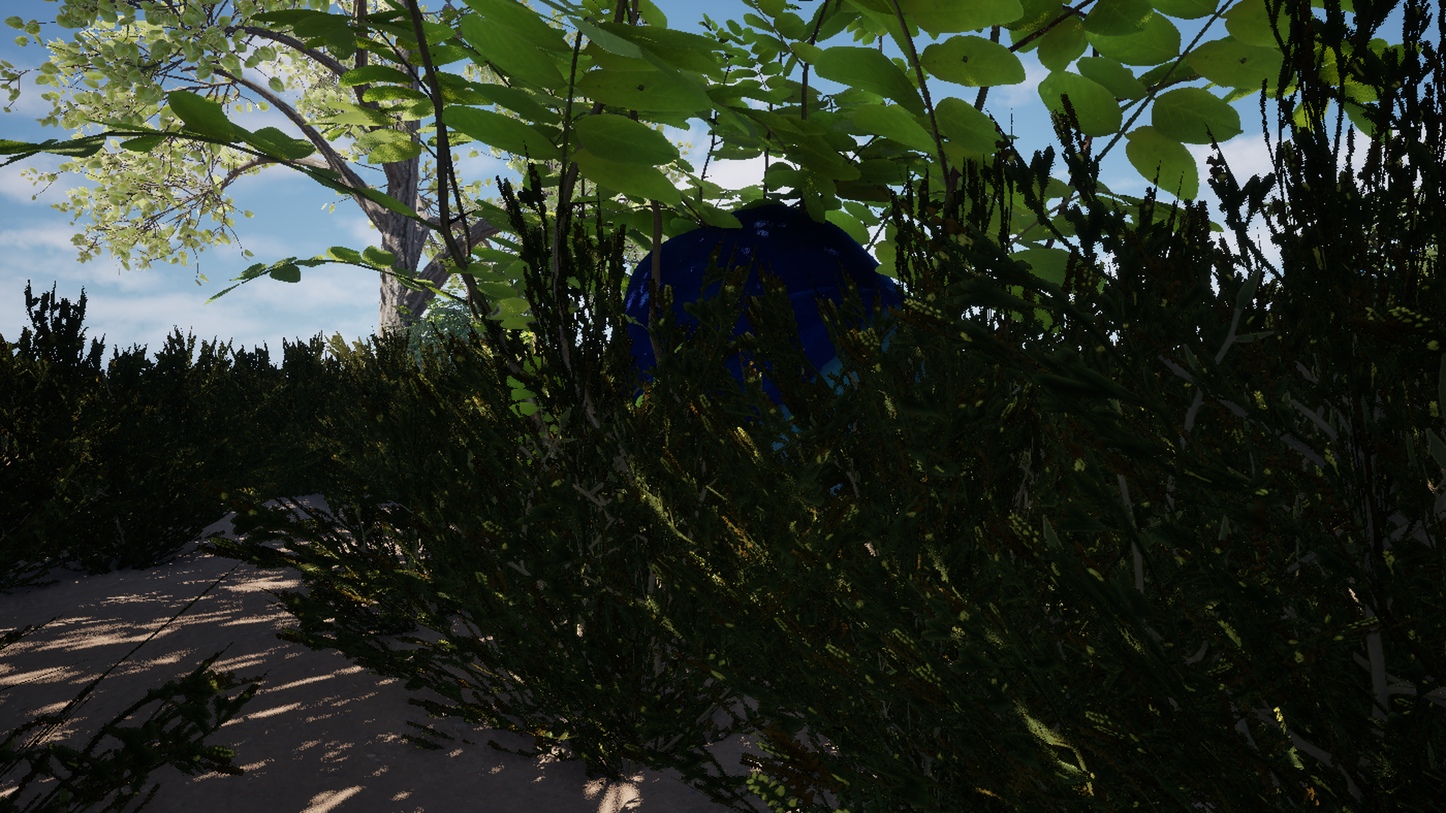Piplup: (476, 0, 1098, 813)
